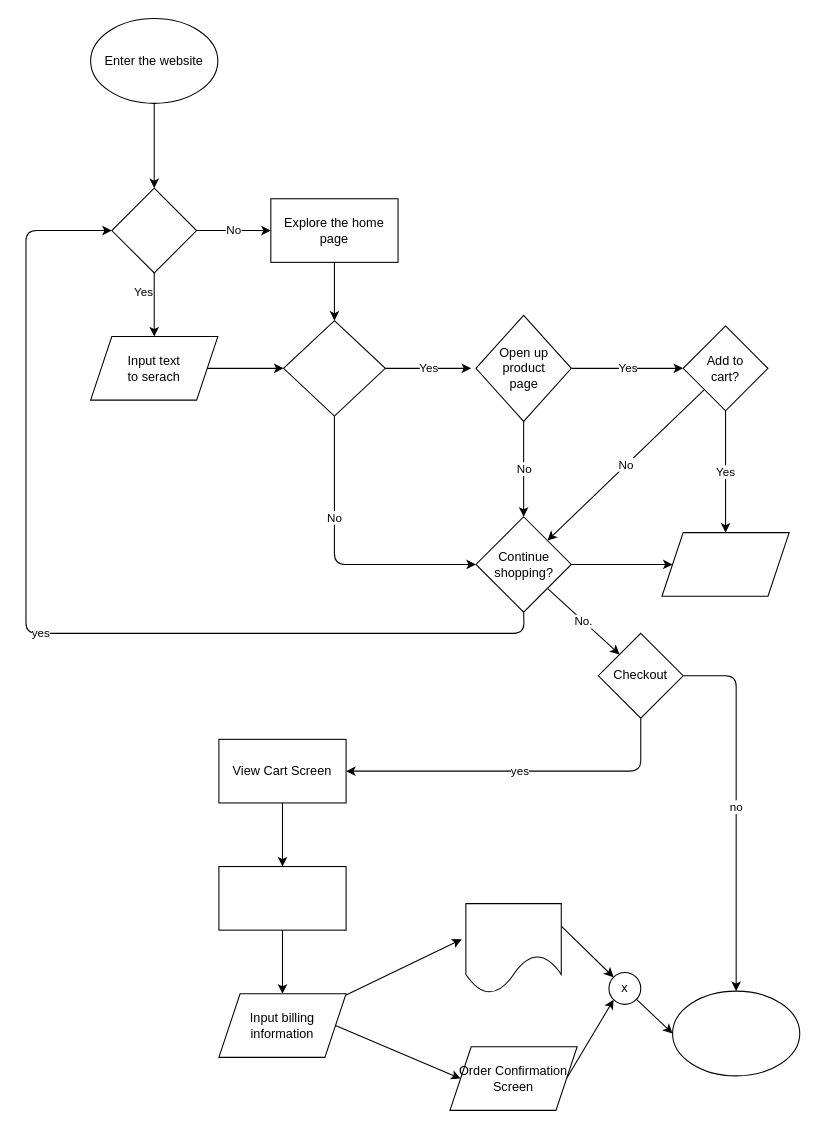
Image size: 818x1129. Some labels were removed from this diagram. Here are the shapes that lost their labels. From the top down, the centre of each, then its label:
At point 154,230: "Search for a product".
At point 333,368: "Find a specific liked product".
At point 725,564: "Confirm addition to cart".
At point 282,897: "View Payment screen.".
At point 513,948: "Receive email confirmation of invoice.".
At point 736,1033: "Exit the website".
